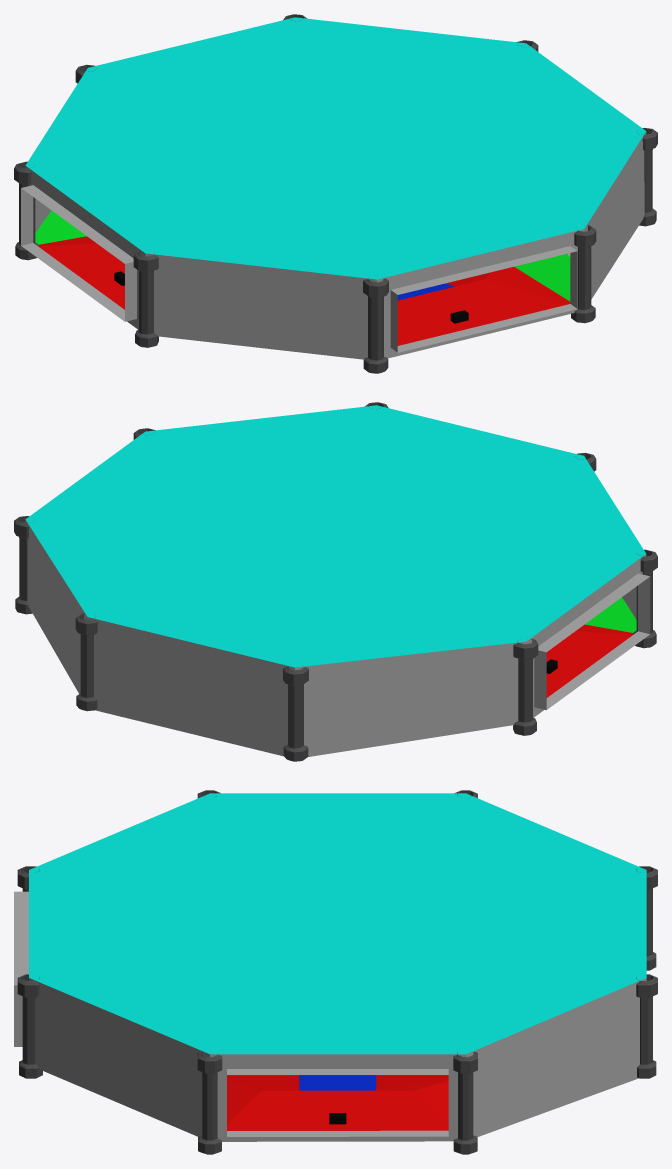
Rendered from Nivel1.fbx.
3 renders of one model, top to bottom at view 1: azimuth 30°, elevation 25°; view 2: azimuth 150°, elevation 25°; view 3: azimuth 270°, elevation 25°, orthographic. The views are drawn at different scales.
Visible parts, largest first — view 1: pCube2, pCube13, pCube6, pCube12, pCube14, pCube11, A_Top12, A_Top13, A_Top9, A_Top14, A_Top16; view 2: pCube2, pCube7, pCube8, pCube14, pCube9, pCube6, A_Top11, A_Top16, A_Top10, A_Top15, A_Top13; view 3: pCube2, pCube9, pCube11, pCube6, pCube10, A_Top14, A_Top15, pCube12, A_Top9, A_Top10, A_Top11.
Part boxes in pixels (bbox=[...]): pCube2: bbox=[25, 17, 645, 279]; pCube13: bbox=[145, 253, 376, 359]; pCube6: bbox=[35, 210, 570, 345]; pCube12: bbox=[377, 229, 584, 358]; pCube14: bbox=[21, 166, 145, 329]; pCube11: bbox=[584, 131, 646, 299]; A_Top12: bbox=[363, 278, 388, 373]; A_Top13: bbox=[133, 251, 158, 347]; A_Top9: bbox=[571, 225, 596, 323]; A_Top14: bbox=[639, 128, 657, 226]; A_Top16: bbox=[14, 161, 38, 260]; pCube2: bbox=[25, 405, 645, 667]; pCube7: bbox=[295, 641, 526, 756]; pCube8: bbox=[87, 617, 294, 756]; pCube14: bbox=[526, 554, 650, 717]; pCube9: bbox=[25, 520, 87, 693]; pCube6: bbox=[546, 597, 636, 697]; A_Top11: bbox=[283, 666, 308, 761]; A_Top16: bbox=[513, 639, 538, 735]; A_Top10: bbox=[75, 613, 97, 711]; A_Top15: bbox=[14, 516, 32, 614]; A_Top13: bbox=[633, 549, 657, 648]; pCube2: bbox=[29, 793, 646, 1054]; pCube9: bbox=[466, 978, 646, 1136]; pCube11: bbox=[29, 978, 209, 1136]; pCube6: bbox=[227, 1075, 448, 1130]; pCube10: bbox=[210, 1054, 466, 1141]; A_Top14: bbox=[197, 1051, 222, 1154]; A_Top15: bbox=[453, 1052, 477, 1154]; pCube12: bbox=[14, 891, 28, 1046]; A_Top9: bbox=[17, 974, 42, 1078]; A_Top10: bbox=[636, 974, 657, 1078]; A_Top11: bbox=[636, 866, 657, 970].
Bounding box in the file's own units: 76.04 × 12.67 × 75.58.
